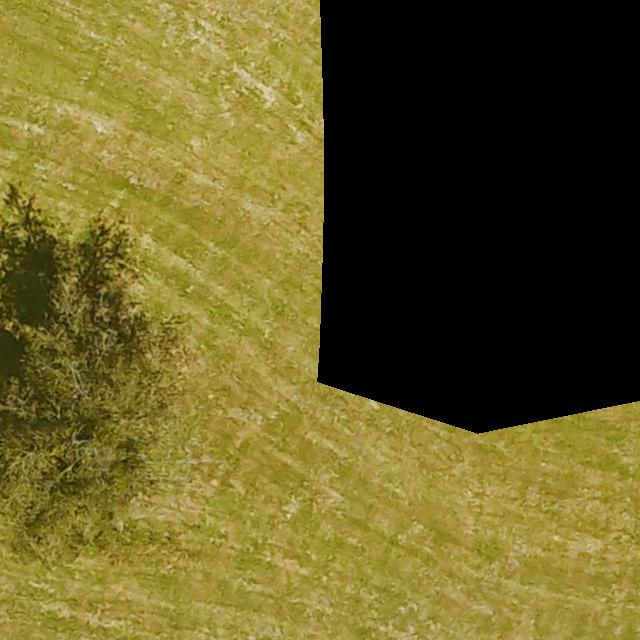tree: (2, 230, 185, 556)
